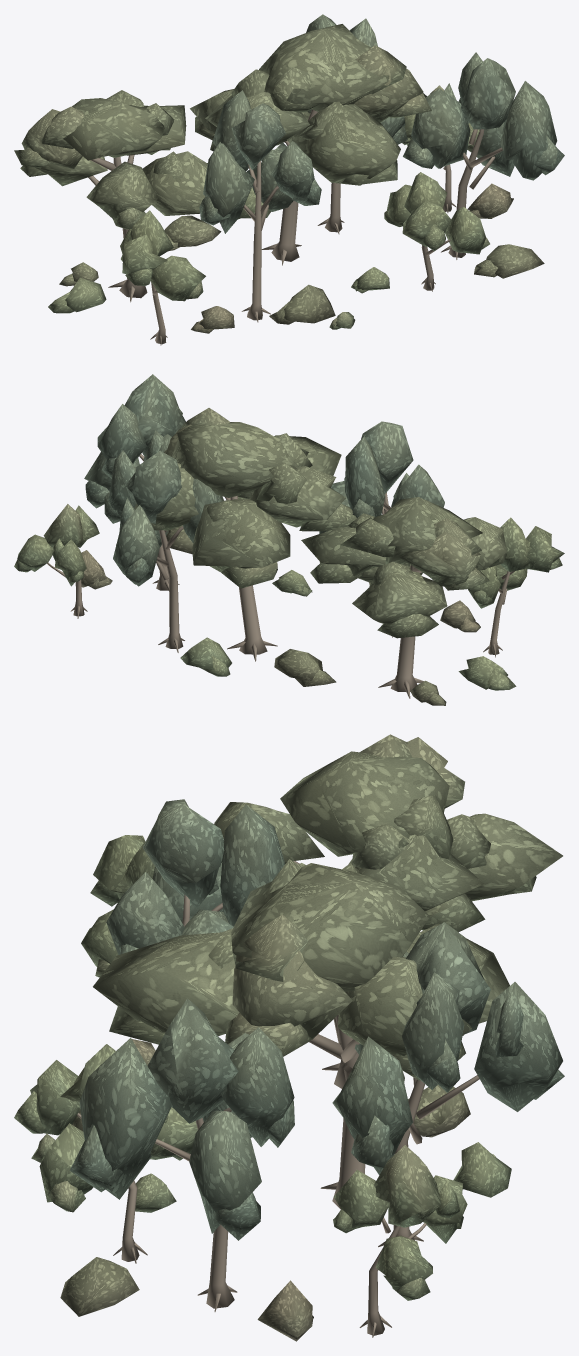
The model's file is marches-copse-near.glb.
3 views of the same model, one above another, from view 1: azimuth 30°, elevation 25°; view 2: azimuth 150°, elevation 25°; view 3: azimuth 270°, elevation 25° (orthographic). The views are drawn at different scales.
Parts seen in each view (by area): view 1: Near | foliage clumps, Near | forked greywood; view 2: Near | foliage clumps, Near | forked greywood; view 3: Near | foliage clumps, Near | forked greywood.
Boxes of the visible parts, x1=… form: Near | foliage clumps: x1=14, y1=14, x2=564, y2=333; Near | forked greywood: x1=88, y1=109, x2=502, y2=345; Near | foliage clumps: x1=14, y1=374, x2=564, y2=705; Near | forked greywood: x1=47, y1=454, x2=514, y2=698; Near | foliage clumps: x1=14, y1=734, x2=564, y2=1341; Near | forked greywood: x1=77, y1=861, x2=479, y2=1337.
Bounding box in the file's own units: 21.01 × 9.32 × 13.28.
2 materials, 1 textured.
